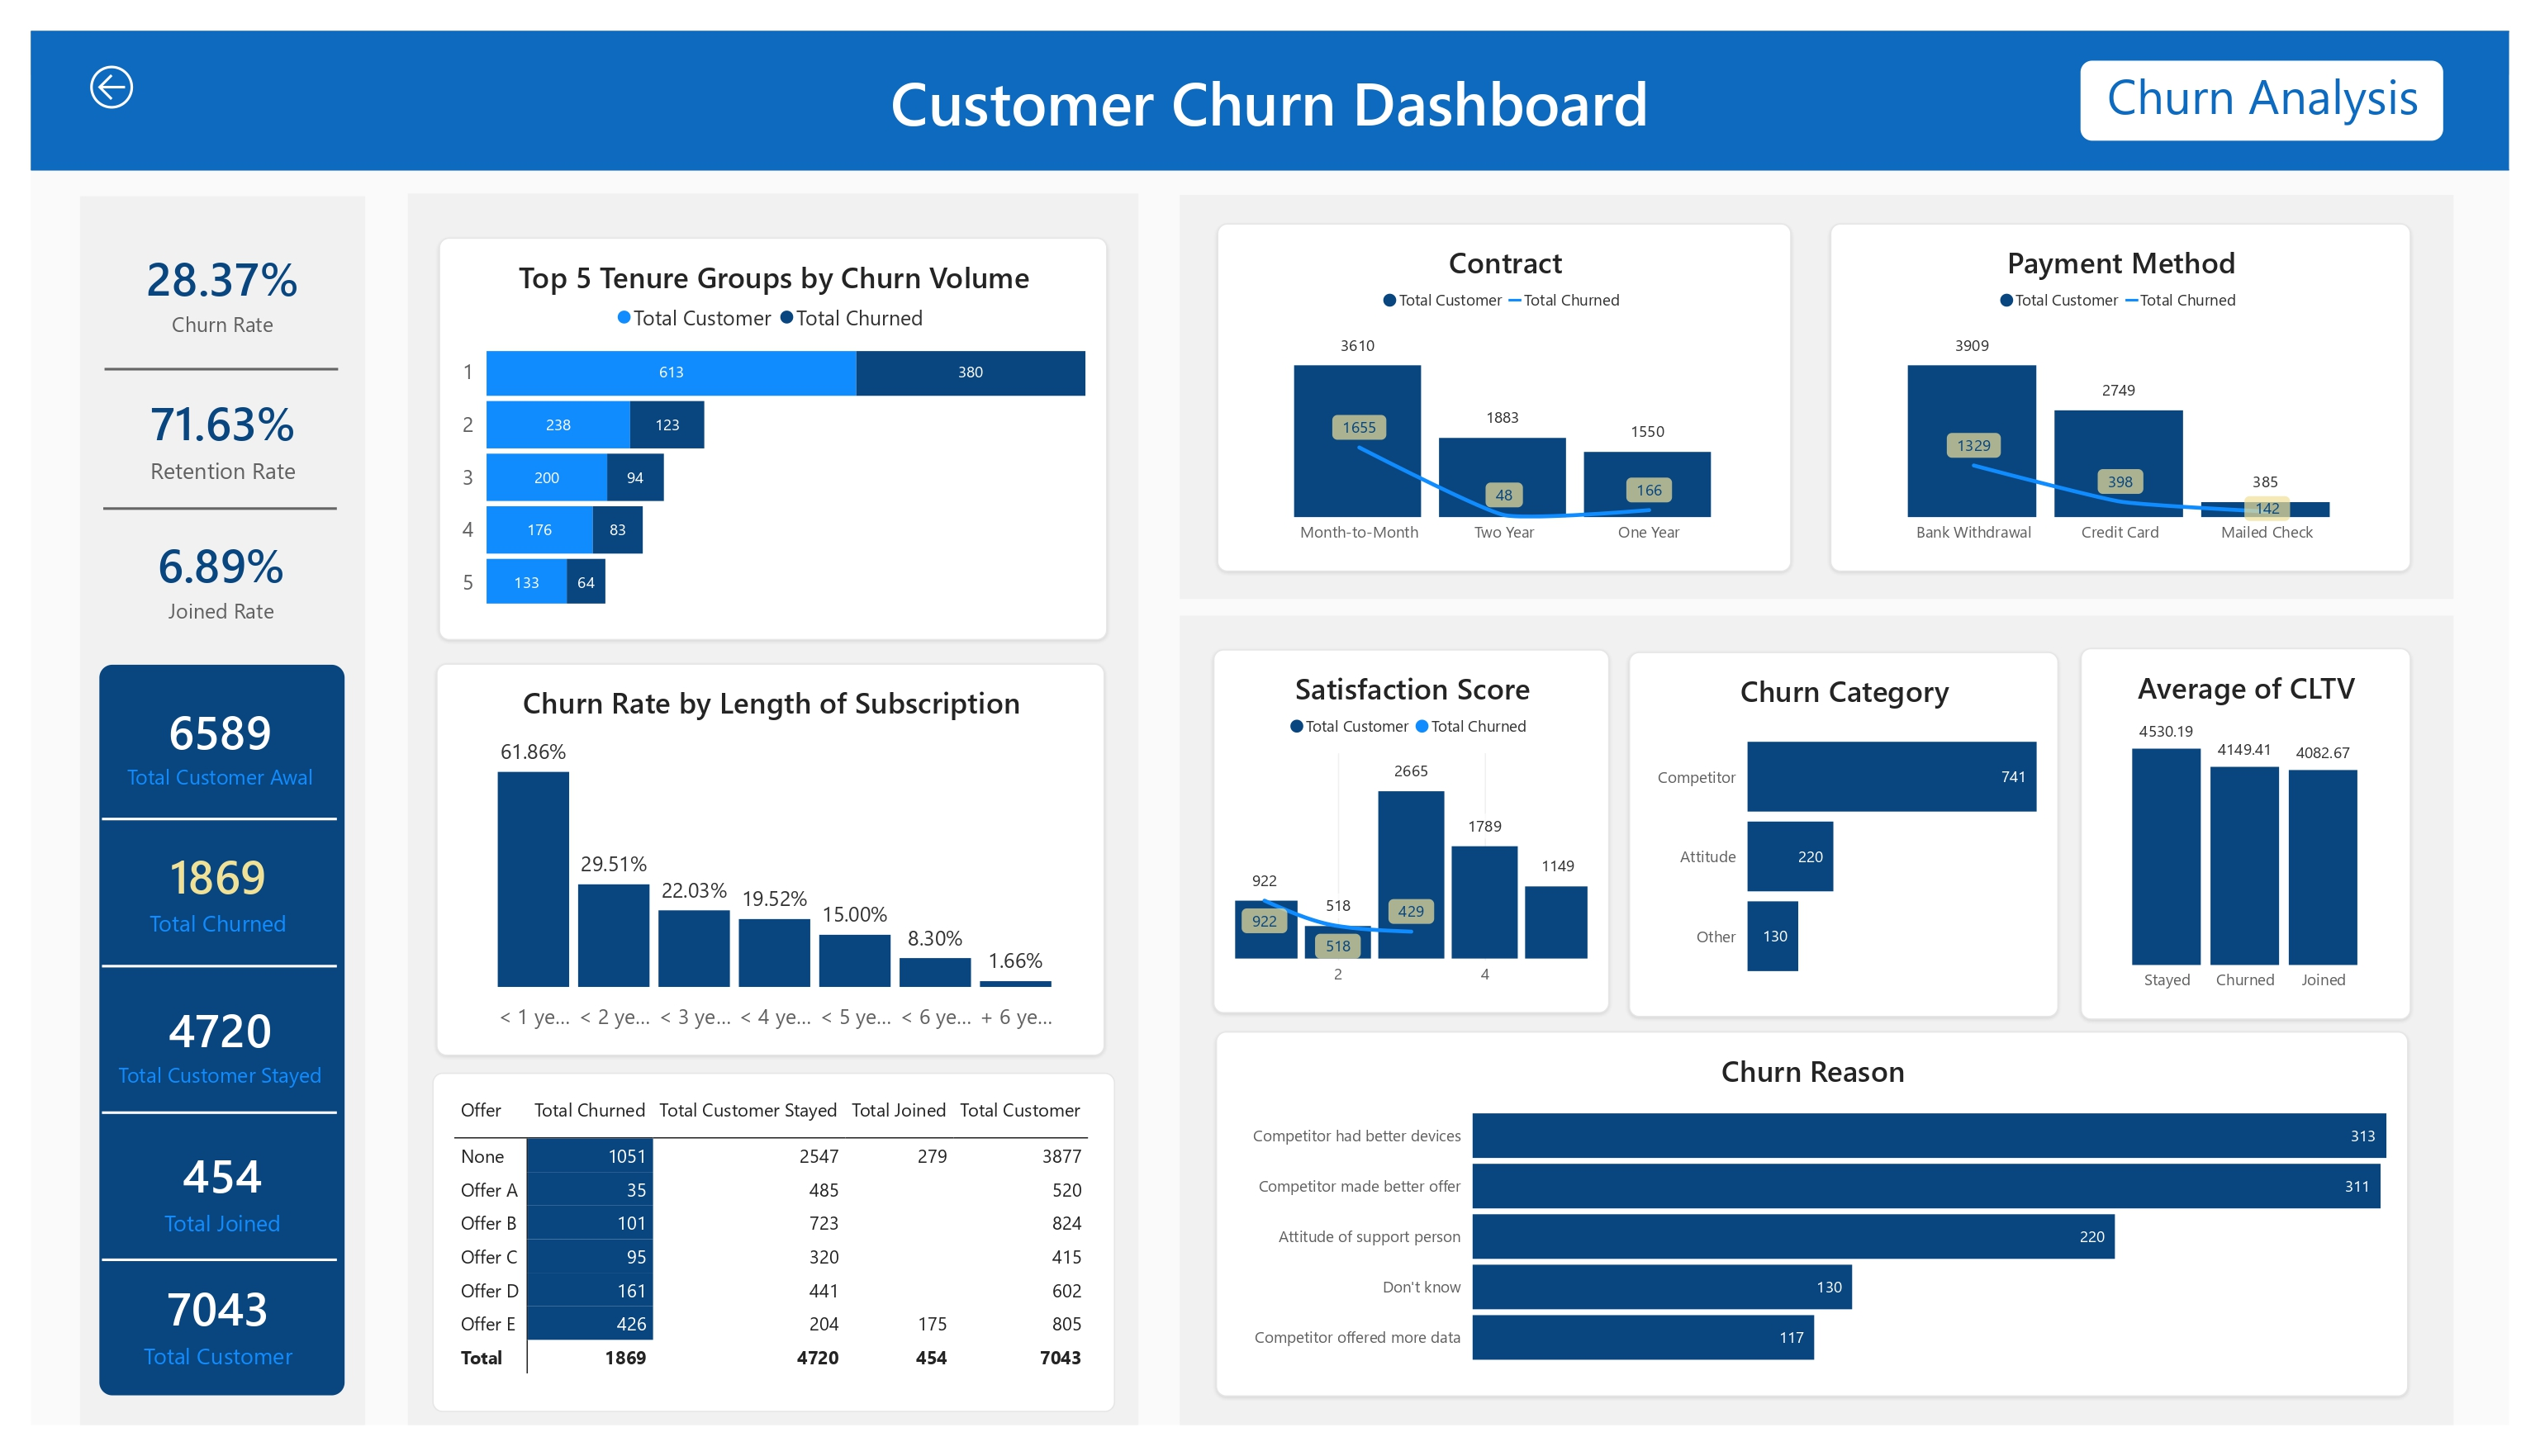

Layout of this report page (visuals, bound fields, positions):
{"tool":"powerbi","page":{"name":"Churn Analysis","canvas":[1920,1080],"ordinal":2},"visuals":[{"type":"shape","box":[291.8,126.4,566.4,953.6],"z":0},{"type":"shape","box":[37.8,128.2,220.9,951.8],"z":1000},{"type":"shape","box":[53.3,491.4,190,566],"z":2000},{"type":"shape","box":[0,0,1920.6,107.6],"z":3000},{"type":"actionButton","box":[40,12.2,45,61.7],"z":4000},{"type":"textbox","title":"Churn Analysis","box":[1588,23,281,62],"z":5000},{"type":"shape","box":[56.7,187.3,181.3,150],"z":6000},{"type":"cardVisual","fields":{"Data":["telco.Total Churned"]},"box":[74.5,622.7,140,87.3],"z":7000},{"type":"cardVisual","fields":{"Data":["telco.Total Customer"]},"box":[61.1,961.7,168.1,79.4],"z":8000},{"type":"cardVisual","fields":{"Data":["telco.Churn Rate"]},"box":[64.2,160.5,168.7,84],"z":9000},{"type":"shape","box":[890,126.7,986.7,313.3],"z":10000},{"type":"shape","box":[890,453.3,986.7,626.7],"z":11000},{"type":"lineClusteredColumnComboChart","title":"Contract","fields":{"Category":["telco.Contract"],"Y":["telco.Total Customer"],"Y2":["telco.Total Churned"]},"box":[918.6,148.6,445.7,270],"z":12000},{"type":"lineClusteredColumnComboChart","title":"Payment Method","fields":{"Category":["telco.Payment Method"],"Y":["telco.Total Customer"],"Y2":["telco.Total Churned"]},"box":[1394.3,148.6,450,270],"z":13000},{"type":"shape","box":[55.9,349.6,181.2,40.6],"z":14000},{"type":"cardVisual","fields":{"Data":["telco.Retention Rate"]},"box":[73.6,261.7,150,107.5],"z":15000},{"type":"cardVisual","fields":{"Data":["telco.Total Customer Awal"]},"box":[53.6,507.7,185.3,91.8],"z":16000},{"type":"cardVisual","fields":{"Data":["telco.Total Customer Stayed"]},"box":[50.7,733.2,191.8,102.7],"z":17000},{"type":"cardVisual","fields":{"Data":["telco.Total Joined"]},"box":[64.4,859.1,168.1,79.4],"z":18000},{"type":"shape","box":[55.5,590,181.2,40.6],"z":19000},{"type":"shape","box":[55.5,703.9,181.2,40.6],"z":20000},{"type":"shape","box":[55.5,817.8,181.2,40.6],"z":21000},{"type":"shape","box":[55.5,931.7,181.2,40.6],"z":22000},{"type":"cardVisual","fields":{"Data":["telco.Joined Rate"]},"box":[62.9,382.3,168.7,84],"z":23000},{"type":"barChart","title":"Top 5 Tenure Groups by Churn Volume","fields":{"Category":["telco.Tenure in Months"],"Y":["telco.Total Customer","telco.Total Churned"]},"box":[316,160,518,312],"z":24000},{"type":"columnChart","title":"Churn Rate by Length of Subscription","fields":{"Category":["telco.Length of Subscription"],"Y":["telco.Churn Rate"]},"box":[314.3,490,518,304],"z":25000},{"type":"pivotTable","fields":{"Rows":["telco.Offer"],"Values":["telco.Total Churned","telco.Total Customer Stayed","telco.Total Joined","telco.Total Customer"]},"box":[311.4,807.1,528.6,262.9],"z":26000},{"type":"lineClusteredColumnComboChart","title":"Satisfaction Score","fields":{"Category":["telco.Satisfaction Score"],"Y":["telco.Total Customer"],"Y2":["telco.Total Churned"]},"box":[915.7,478.6,307.1,282.9],"z":27000},{"type":"barChart","title":"Churn Reason","fields":{"Category":["telco.Churn Reason"],"Y":["telco.Total Churned"]},"box":[918.3,775,923.3,283.3],"z":28000},{"type":"barChart","title":"Churn Category","fields":{"Category":["telco.Churn Category"],"Y":["telco.Total Churned"]},"box":[1238.2,480.9,332.9,282.9],"z":29000},{"type":"columnChart","title":"Average of CLTV","fields":{"Category":["telco.Customer Status"],"Y":["Avg(telco.CLTV)"]},"box":[1588,478,256,288],"z":30000},{"type":"textbox","title":"Customer Churn Dashboard","box":[606.2,22.5,707.5,62.5],"z":31000}]}

Visuals, with their boxes on the page's 1920x1080 design canvas (x1, y1, x2, y2). These are canvas units, not pixel positions in the 2540x1456 screenshot, which may show the page scaled, cropped or inside an application window:
shape: 292/126/858/1080
shape: 38/128/259/1080
shape: 53/491/243/1057
shape: 0/0/1921/108
actionButton: 40/12/85/74
"Churn Analysis" textbox: 1588/23/1869/85
shape: 57/187/238/337
cardVisual - telco.Total Churned: 74/623/214/710
cardVisual - telco.Total Customer: 61/962/229/1041
cardVisual - telco.Churn Rate: 64/160/233/244
shape: 890/127/1877/440
shape: 890/453/1877/1080
"Contract" lineClusteredColumnComboChart: 919/149/1364/419
"Payment Method" lineClusteredColumnComboChart: 1394/149/1844/419
shape: 56/350/237/390
cardVisual - telco.Retention Rate: 74/262/224/369
cardVisual - telco.Total Customer Awal: 54/508/239/600
cardVisual - telco.Total Customer Stayed: 51/733/242/836
cardVisual - telco.Total Joined: 64/859/232/938
shape: 56/590/237/631
shape: 56/704/237/744
shape: 56/818/237/858
shape: 56/932/237/972
cardVisual - telco.Joined Rate: 63/382/232/466
"Top 5 Tenure Groups by Churn Volume" barChart: 316/160/834/472
"Churn Rate by Length of Subscription" columnChart: 314/490/832/794
pivotTable - telco.Offer x telco.Total Churned: 311/807/840/1070
"Satisfaction Score" lineClusteredColumnComboChart: 916/479/1223/762
"Churn Reason" barChart: 918/775/1842/1058
"Churn Category" barChart: 1238/481/1571/764
"Average of CLTV" columnChart: 1588/478/1844/766
"Customer Churn Dashboard" textbox: 606/22/1314/85
